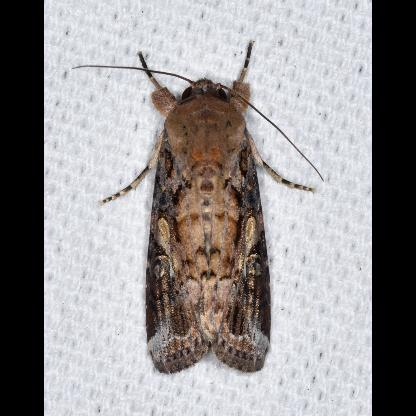Fall Armyworm Moth: (70, 36, 328, 378)
